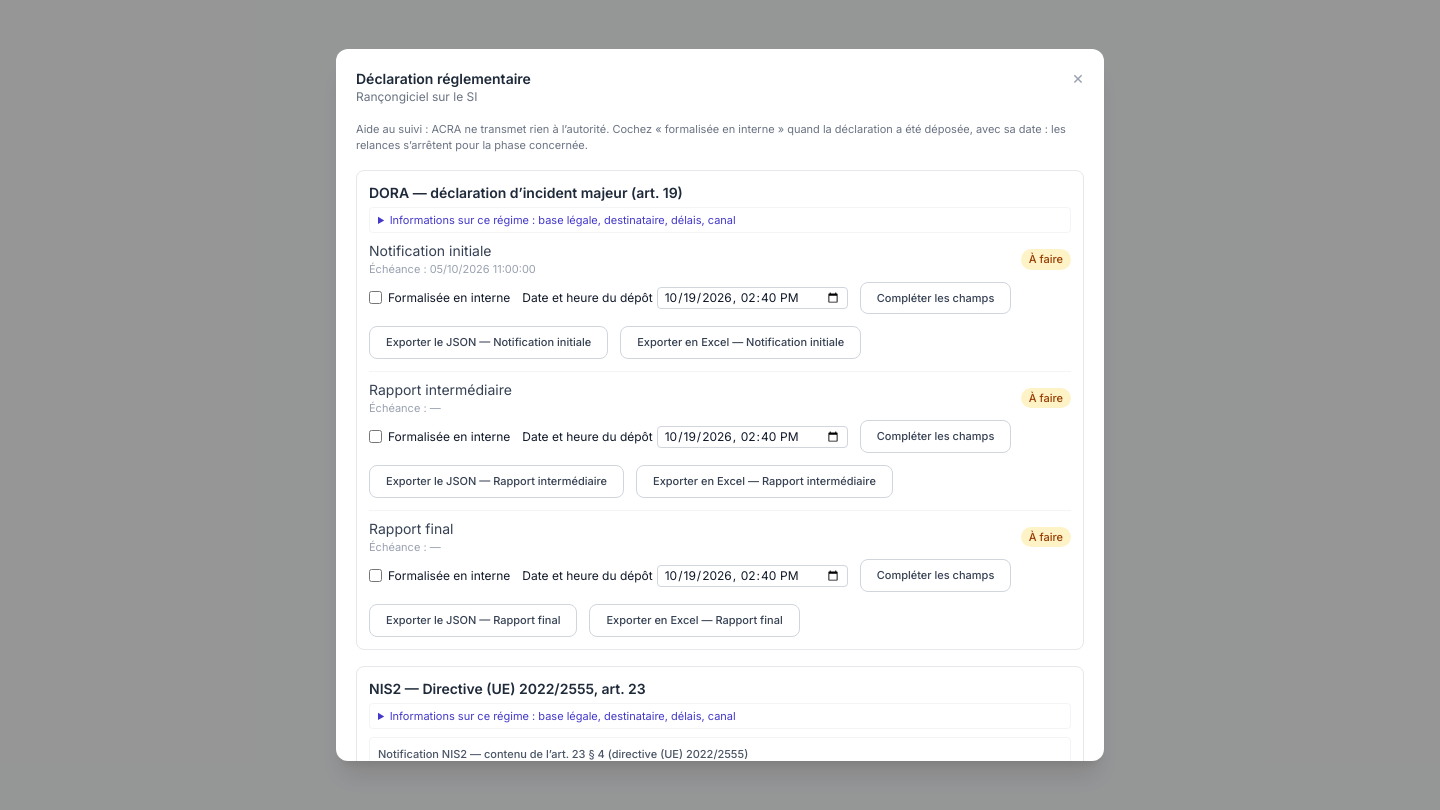
Test case: DeclarationModal › compléments ITS : saisie typée selon le glossaire (listes officielles, booléen, cases à cocher), valeurs existantes préremplies, valeur de l’incident suggérée,
The width and height of the screenshot is (1440, 810).
Click the 1st button "Compléter les champs".
click(936, 298)  # box [860,282,1011,314]
(page scrolled)
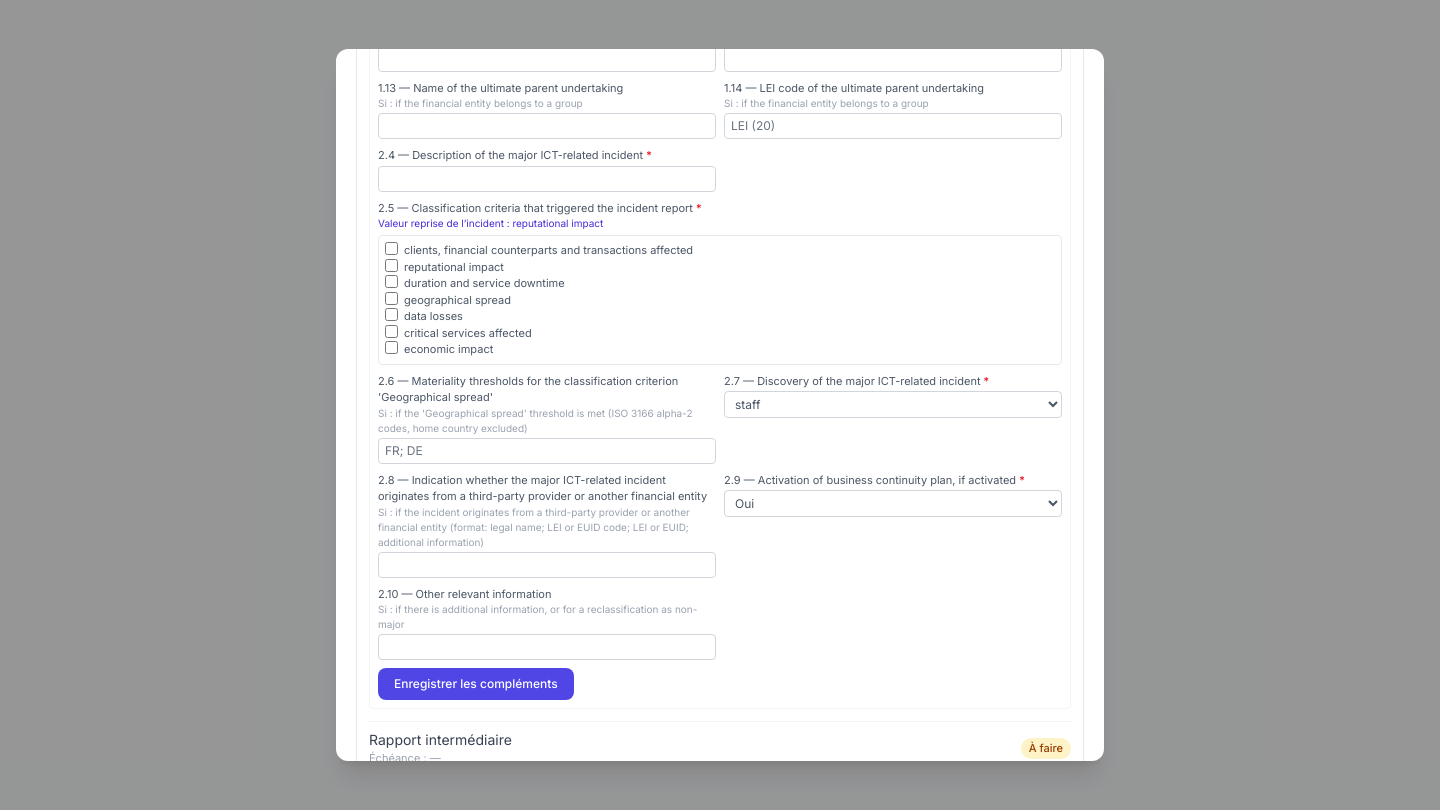
Now the dropdown named "2.7 Discovery of the major ICT-related incident" shows "staff"
Now the dropdown named "2.9 Activation of business continuity plan" shows "Oui", box [724,490,1062,517]
Select "internal audit" in the dropdown named "2.7 Discovery of the major ICT-related incident" at (893, 405), box [724,391,1062,418]
(page scrolled)
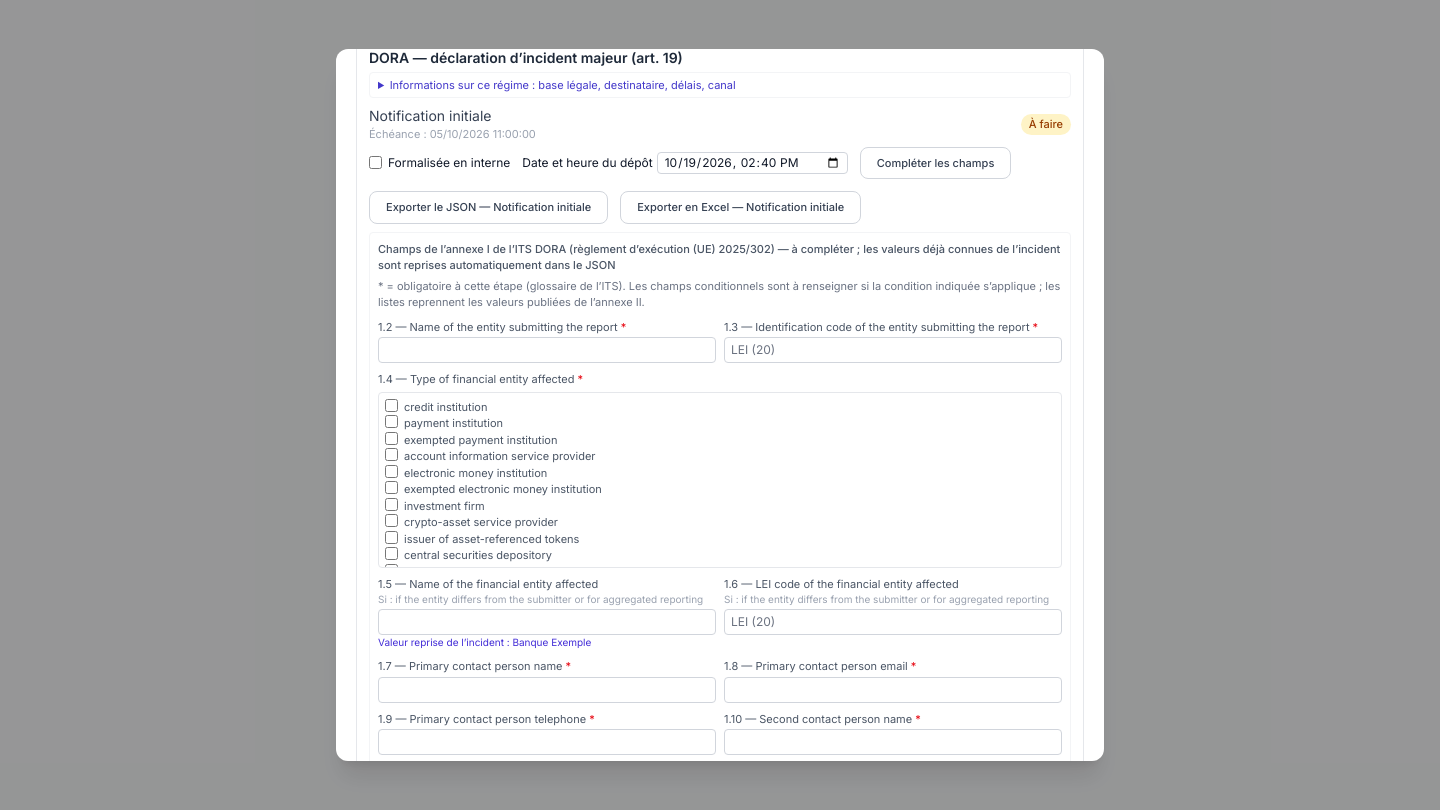
Click the checkbox named "1.4 credit institution".
click(392, 405)  # box [385,399,398,412]
(page scrolled)
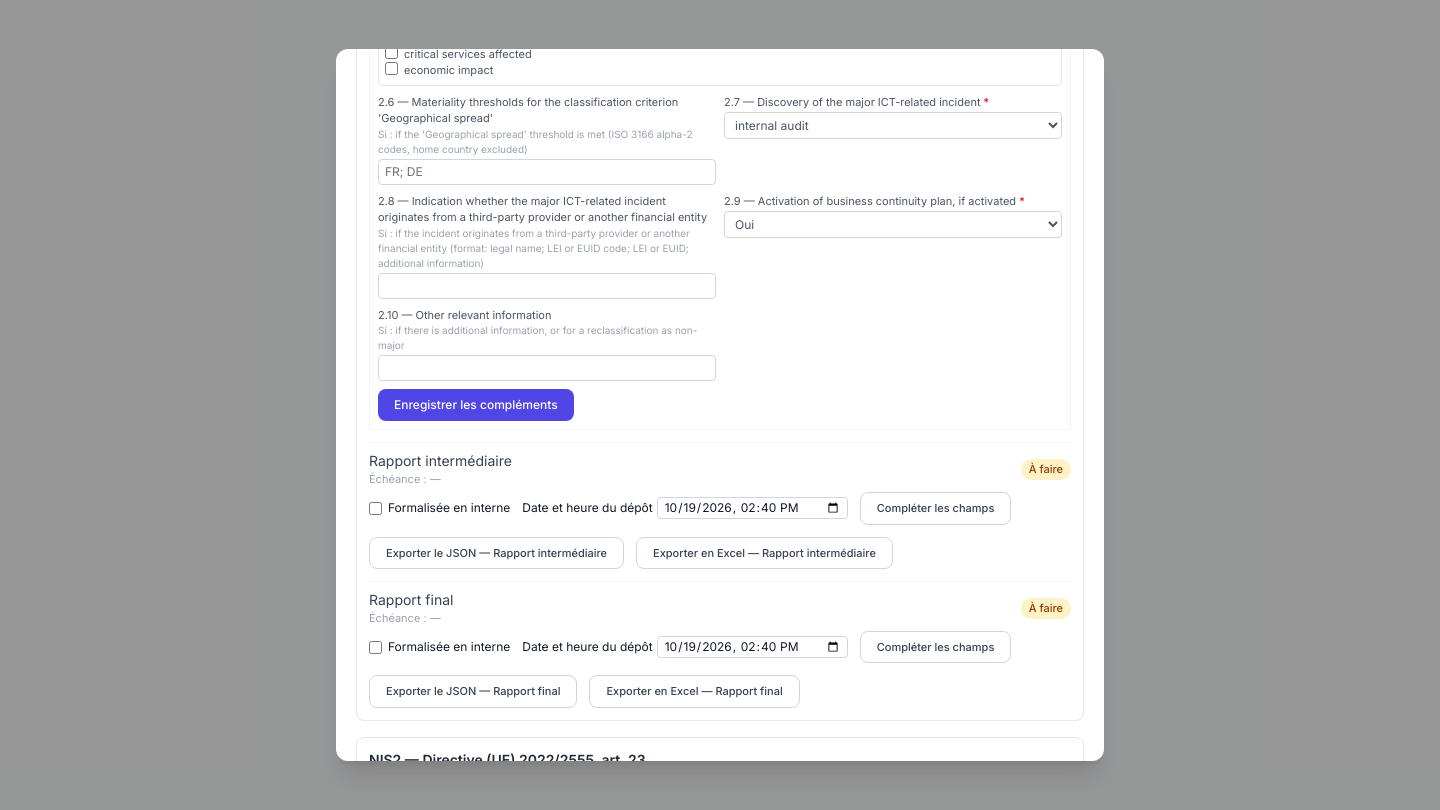
Click the button "Enregistrer les compléments".
click(476, 405)  # box [378,389,574,421]
(page scrolled)
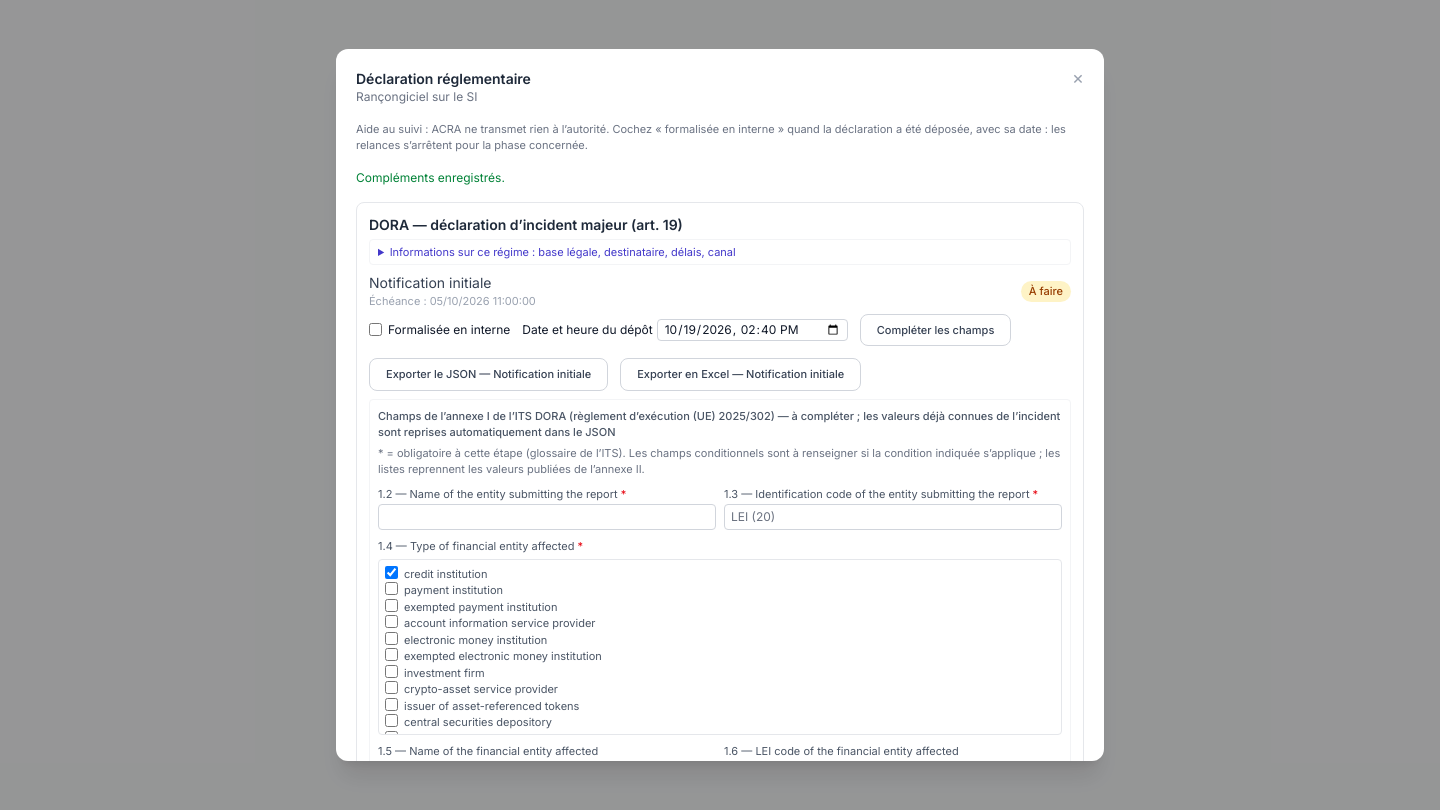
Now the message shows "Compléments enregistrés", box [356,170,505,185]
